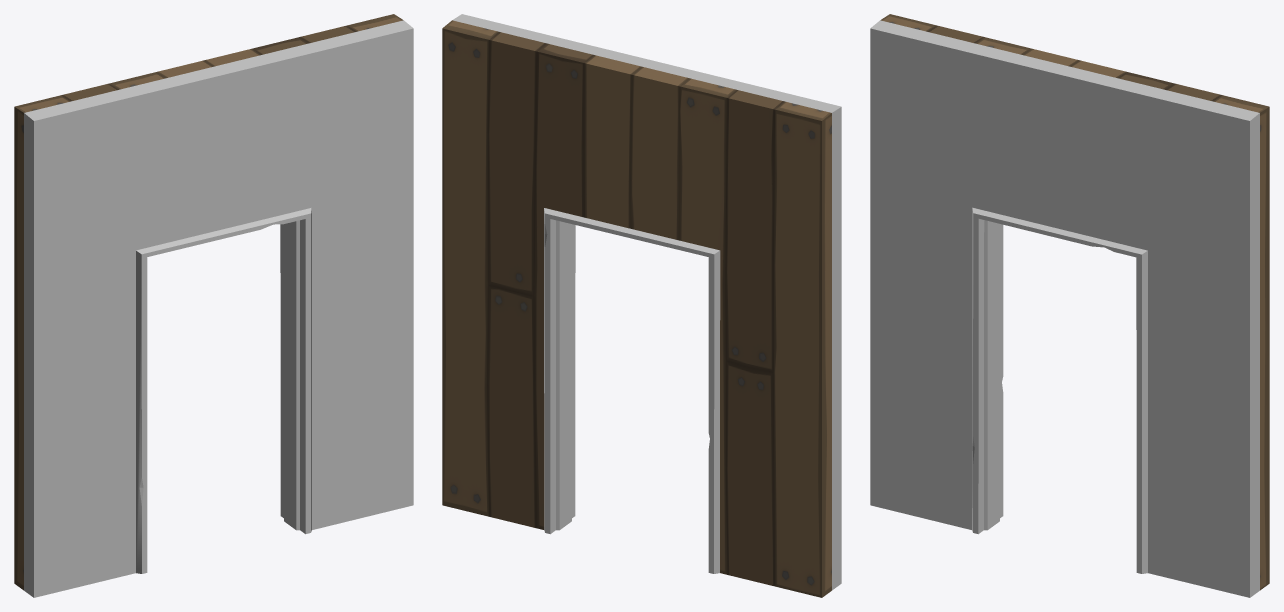
File: SM_Bld_Deco_Wall_Door_01.fbx
3 renders of one model, left to right at view 1: azimuth 30°, elevation 25°; view 2: azimuth 150°, elevation 25°; view 3: azimuth 330°, elevation 25°, orthographic.
Parts seen in each view (by area): view 1: SM_Bld_Deco_Wall_Door_01; view 2: SM_Bld_Deco_Wall_Door_01; view 3: SM_Bld_Deco_Wall_Door_01.
Boxes of the visible parts, box(x1,y1,x2,y2) form: SM_Bld_Deco_Wall_Door_01: box(14, 14, 413, 597); SM_Bld_Deco_Wall_Door_01: box(442, 14, 841, 597); SM_Bld_Deco_Wall_Door_01: box(870, 14, 1269, 597).
Bounding box in the file's own units: 250 × 301 × 28.8.
